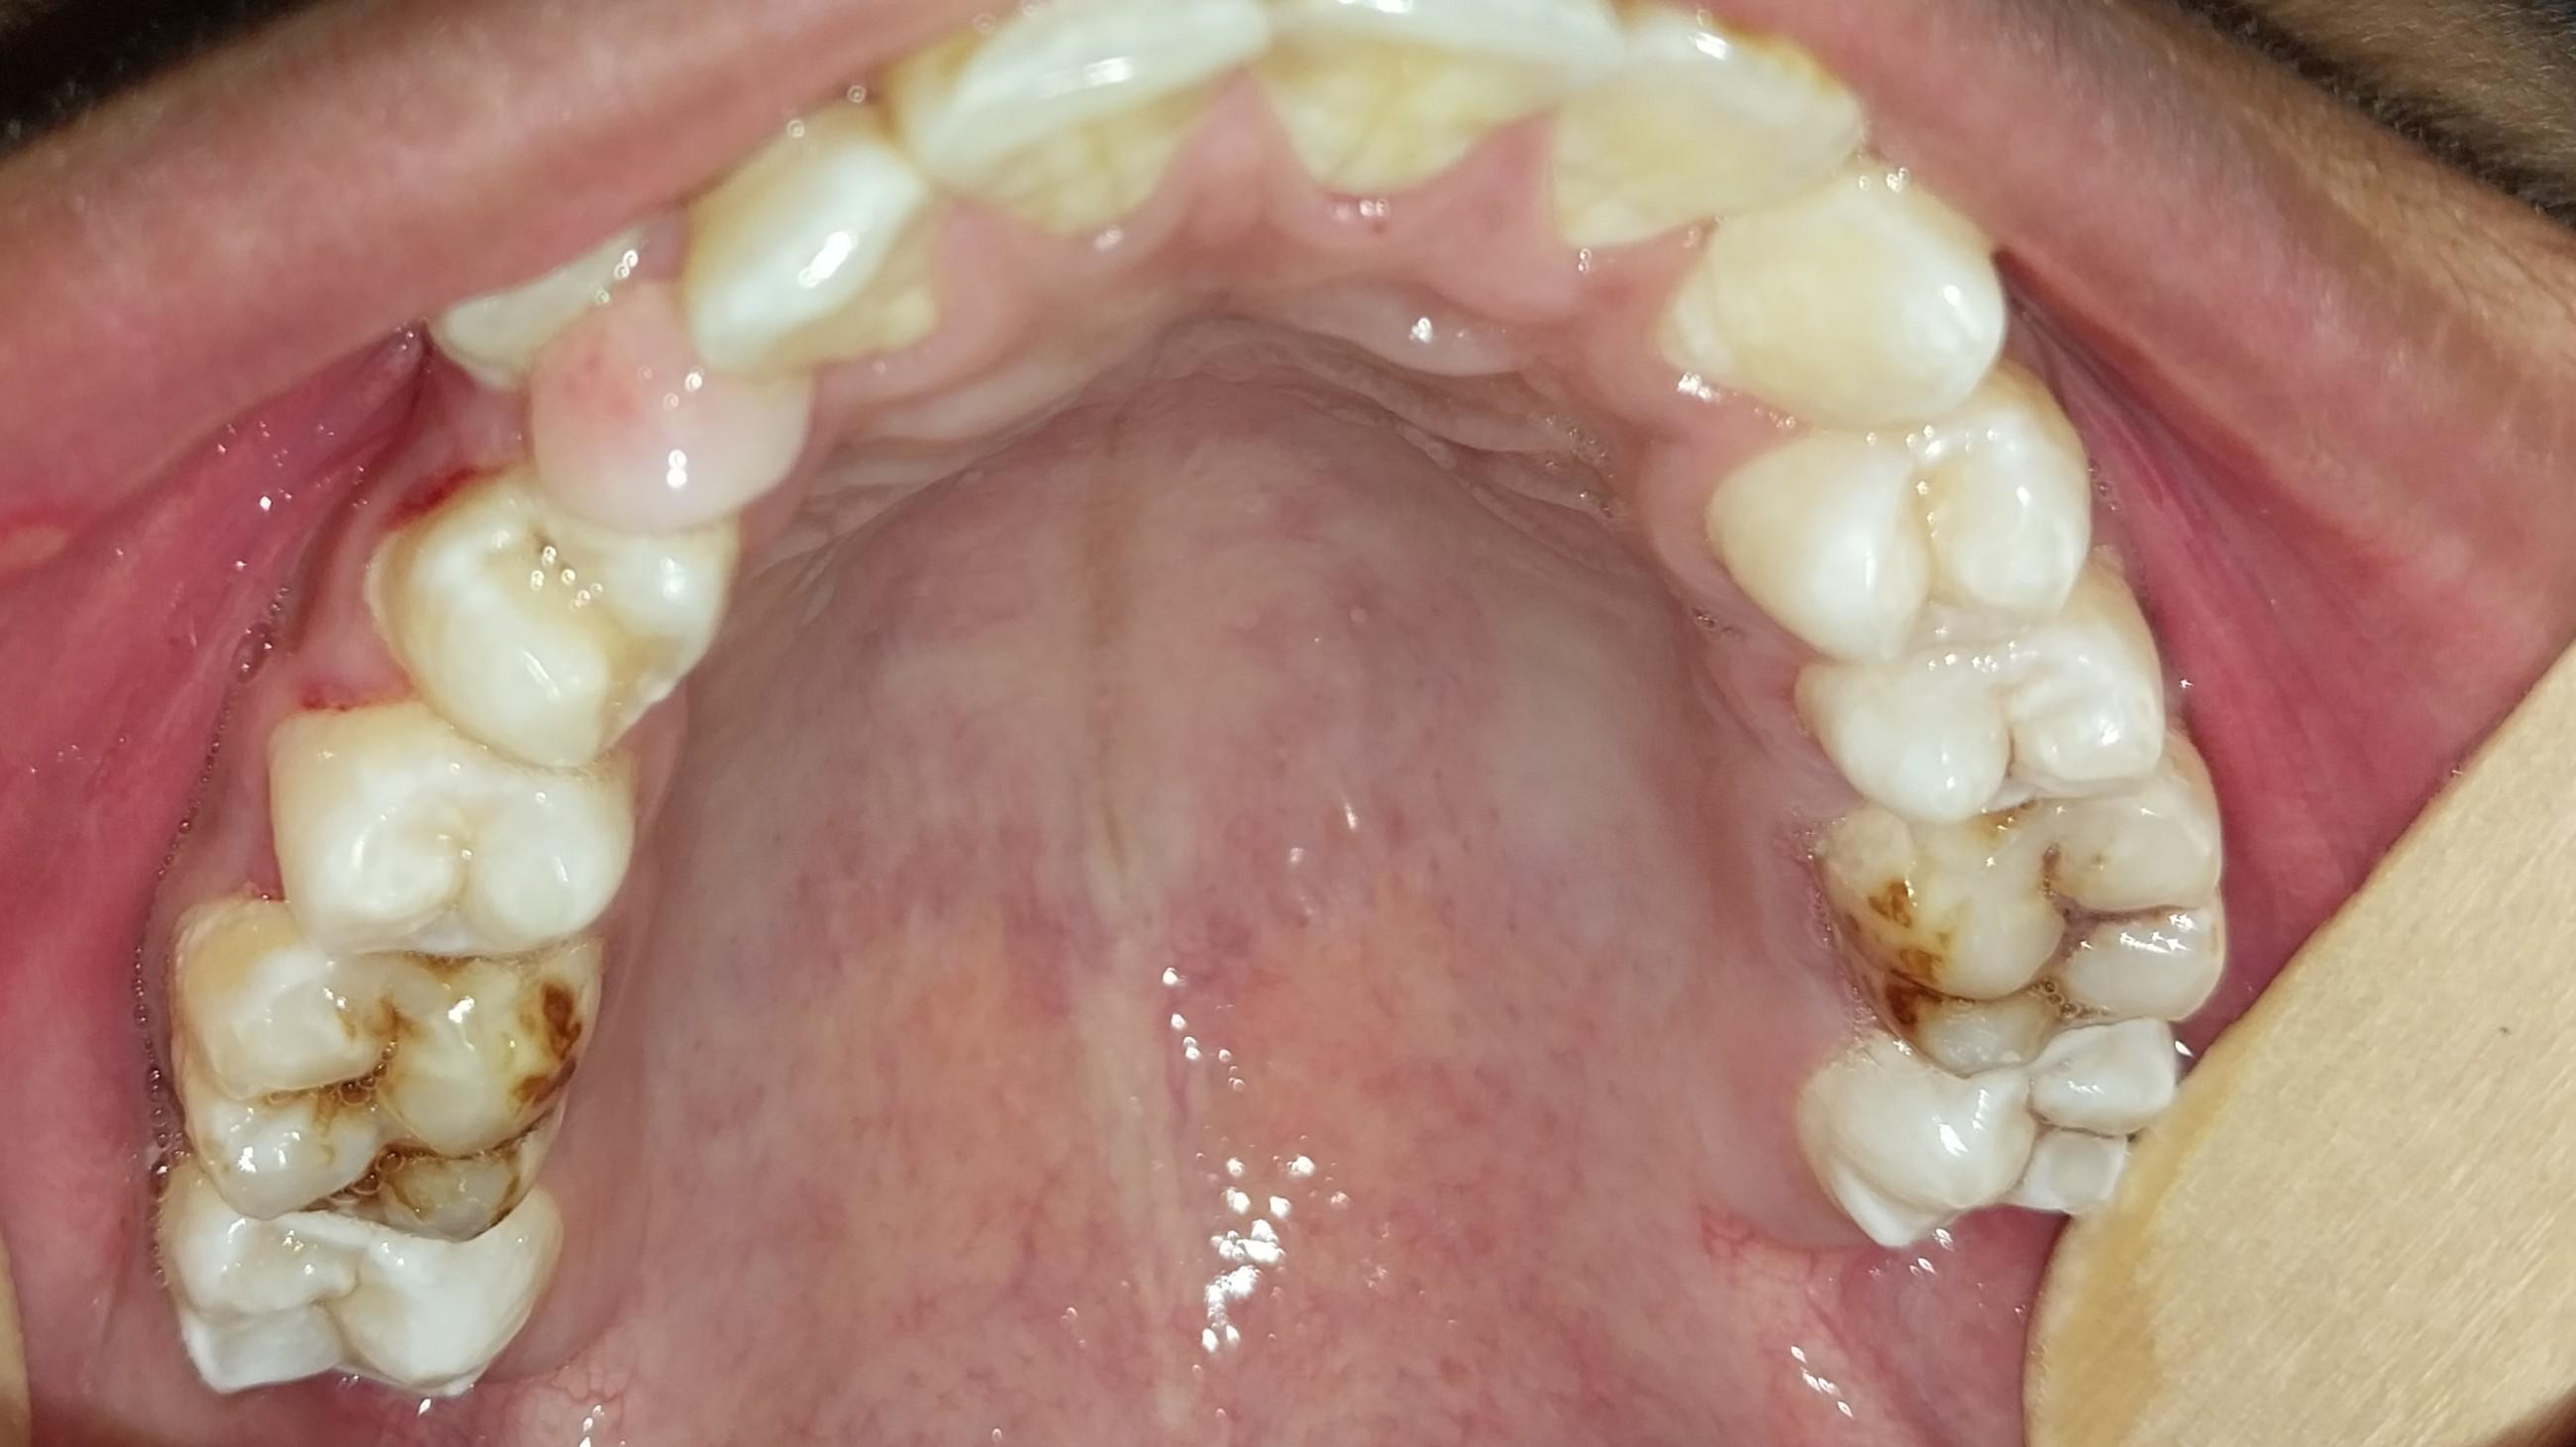D: (167, 913, 588, 1242), (1817, 798, 2229, 1059)
